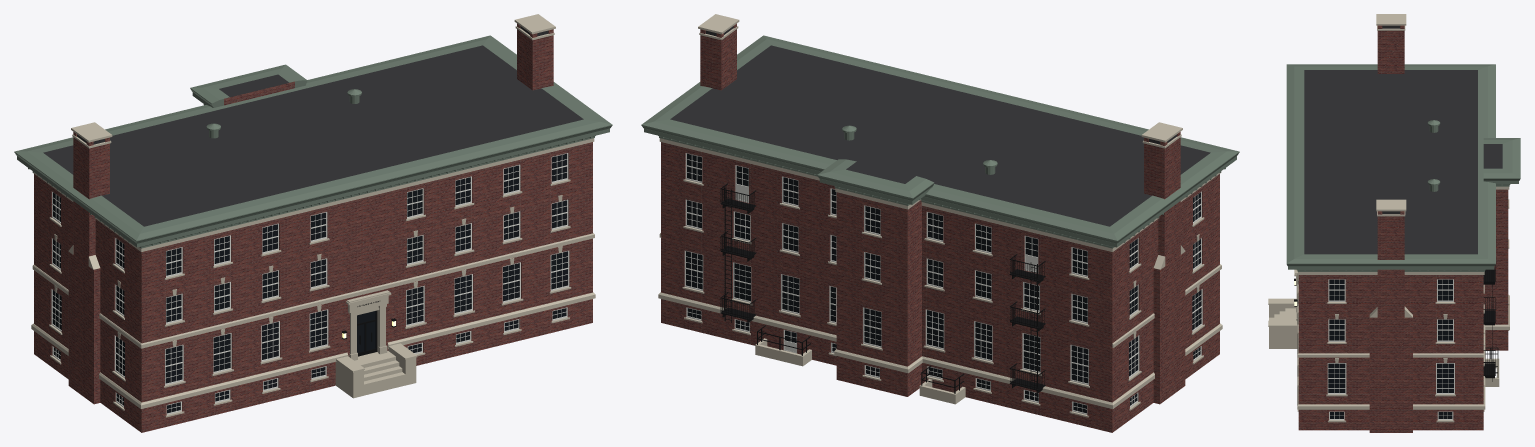
The model's file is lally_hall.glb.
3 renders of one model, left to right at view 1: azimuth 30°, elevation 25°; view 2: azimuth 150°, elevation 25°; view 3: azimuth 270°, elevation 25°, orthographic. The views are drawn at different scales.
Parts seen in each view (by area): view 1: LallyHall_brick, LallyHall_roof, LallyHall_copper, LallyHall_stone, LallyHall_glass, LallyHall_trim; view 2: LallyHall_brick, LallyHall_roof, LallyHall_copper, LallyHall_glass, LallyHall_stone, LallyHall_trim, LallyHall_metal; view 3: LallyHall_roof, LallyHall_brick, LallyHall_copper, LallyHall_stone, LallyHall_glass, LallyHall_trim, LallyHall_metal.
Part boxes in pixels (x1,y1,x2,y2): LallyHall_brick: [34, 23, 592, 432]; LallyHall_roof: [43, 26, 583, 226]; LallyHall_copper: [14, 35, 612, 248]; LallyHall_stone: [31, 14, 595, 417]; LallyHall_glass: [52, 153, 567, 413]; LallyHall_trim: [51, 153, 569, 414]; LallyHall_brick: [661, 23, 1219, 432]; LallyHall_roof: [670, 26, 1210, 226]; LallyHall_copper: [641, 35, 1239, 248]; LallyHall_glass: [686, 153, 1201, 413]; LallyHall_stone: [658, 14, 1222, 417]; LallyHall_trim: [684, 153, 1202, 414]; LallyHall_metal: [720, 183, 1045, 397]; LallyHall_roof: [1304, 25, 1502, 254]; LallyHall_brick: [1298, 25, 1508, 432]; LallyHall_copper: [1286, 64, 1520, 271]; LallyHall_stone: [1268, 14, 1509, 422]; LallyHall_glass: [1328, 279, 1453, 418]; LallyHall_trim: [1327, 279, 1454, 420]; LallyHall_metal: [1294, 265, 1498, 381].
Bounding box in the file's own units: 33.11 × 17.35 × 17.72.
8 materials, 1 textured.
